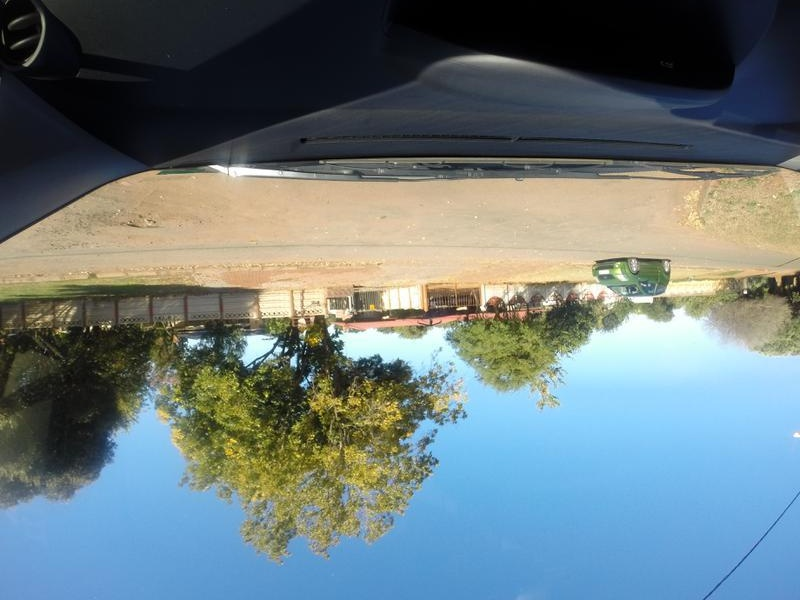pothole: (89, 197, 182, 247)
